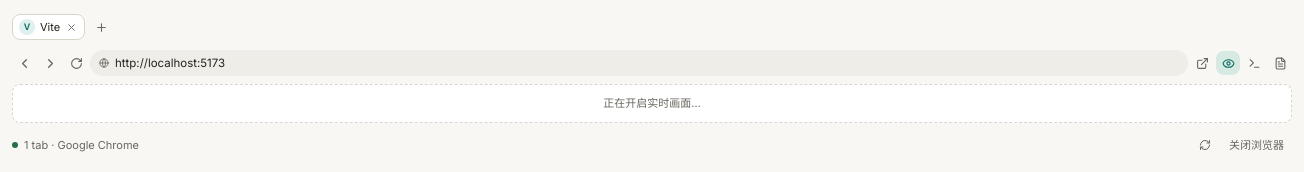
Scenario: BrowserPanel › reverts the URL bar to the active tab address on Escape
Replace the text in the field named "地址栏" with "typed-but-abandoned": [639, 63] box [90, 50, 1188, 76]
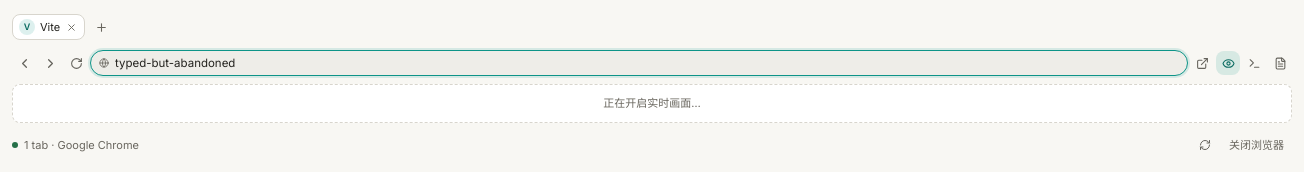
Press Escape in the field named "地址栏", box [90, 50, 1188, 76]
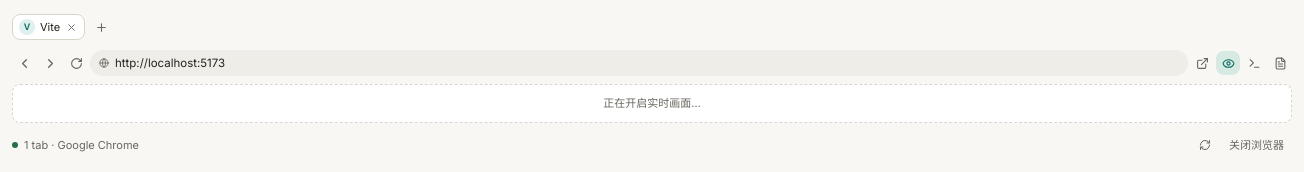
Result: the field named "地址栏" holds "http://localhost:5173" at [90, 50, 1188, 76]
